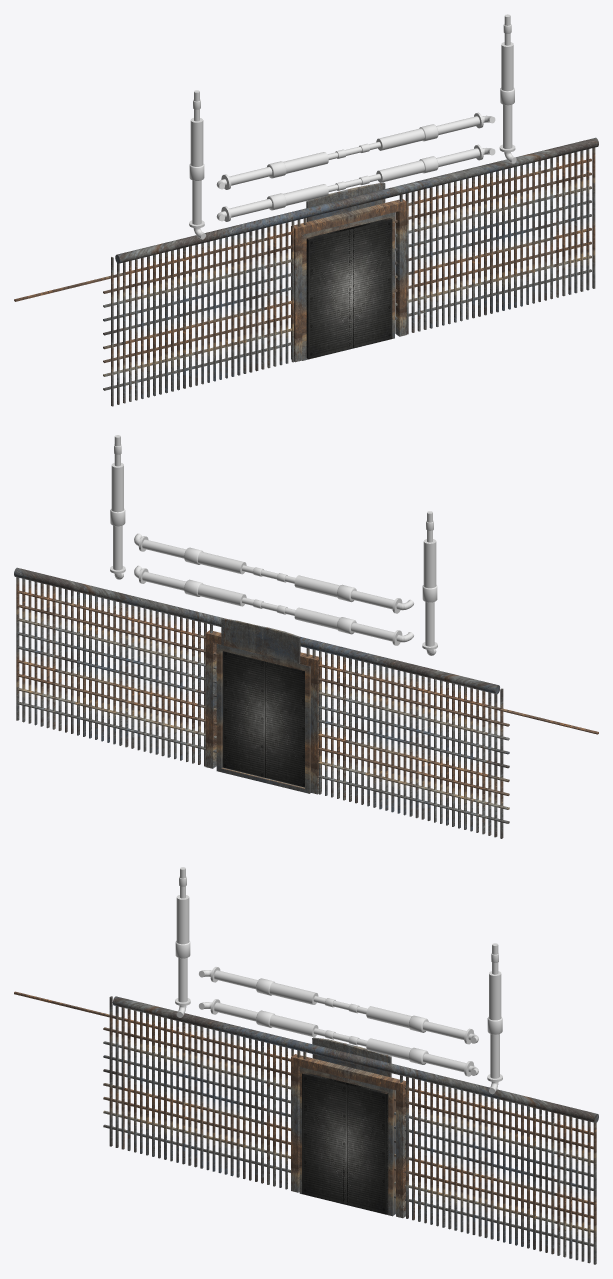
The model's file is puerta ENDGAME.fbx.
3 renders of one model, top to bottom at view 1: azimuth 30°, elevation 25°; view 2: azimuth 150°, elevation 25°; view 3: azimuth 330°, elevation 25°, orthographic.
Parts seen in each view (by area): view 1: Cube.375, Cube.376, Cube.370, Cube.301, Cylinder.038, Cube.380, Cylinder.048, Cylinder.047, Cylinder.042, Cylinder.045, Cylinder.044, Cylinder.046 (+2 smaller); view 2: Cube.375, Cube.376, Cube.301, Cube.370, Cylinder.038, Cube.380, Cube.369, Cube.379, Cylinder.044, Cylinder.046, Cylinder.048, Cylinder.047 (+2 smaller); view 3: Cube.375, Cube.376, Cube.370, Cube.301, Cylinder.038, Cube.380, Cube.369, Cylinder.048, Cylinder.047, Cylinder.044, Cylinder.046, Cylinder.042 (+2 smaller).
Part boxes in pixels (x1,y1,x2,y2): Cube.375: (395,147,595,334); Cube.376: (14,218,306,406); Cube.370: (306,228,354,359); Cube.301: (347,218,392,348); Cylinder.038: (115,137,598,263); Cube.380: (291,199,406,362); Cylinder.048: (189,90,205,239); Cylinder.047: (499,14,516,163); Cylinder.042: (353,144,495,186); Cylinder.045: (353,112,495,154); Cylinder.044: (216,180,354,221); Cylinder.046: (216,148,354,189); Cube.375: (16,577,216,766); Cube.376: (306,648,598,838); Cube.301: (222,651,266,777); Cube.370: (263,662,304,787); Cylinder.038: (14,567,499,694); Cube.380: (205,630,321,794); Cube.369: (216,643,310,793); Cube.379: (221,618,300,663); Cylinder.044: (268,604,413,645); Cylinder.046: (268,572,413,613); Cylinder.048: (422,511,437,655); Cylinder.047: (110,435,125,579); Cube.375: (394,1075,596,1264); Cube.376: (14,991,306,1192); Cube.370: (302,1072,348,1204); Cube.301: (342,1082,388,1214); Cylinder.038: (112,996,598,1122); Cube.380: (291,1054,405,1218); Cube.369: (299,1067,395,1216); Cylinder.048: (175,867,190,1017); Cylinder.047: (487,943,502,1094); Cylinder.044: (199,999,342,1040); Cylinder.046: (199,967,342,1008); Cylinder.042: (340,1035,478,1076).
Bounding box in the file's own units: 1513 × 3058 × 142.
